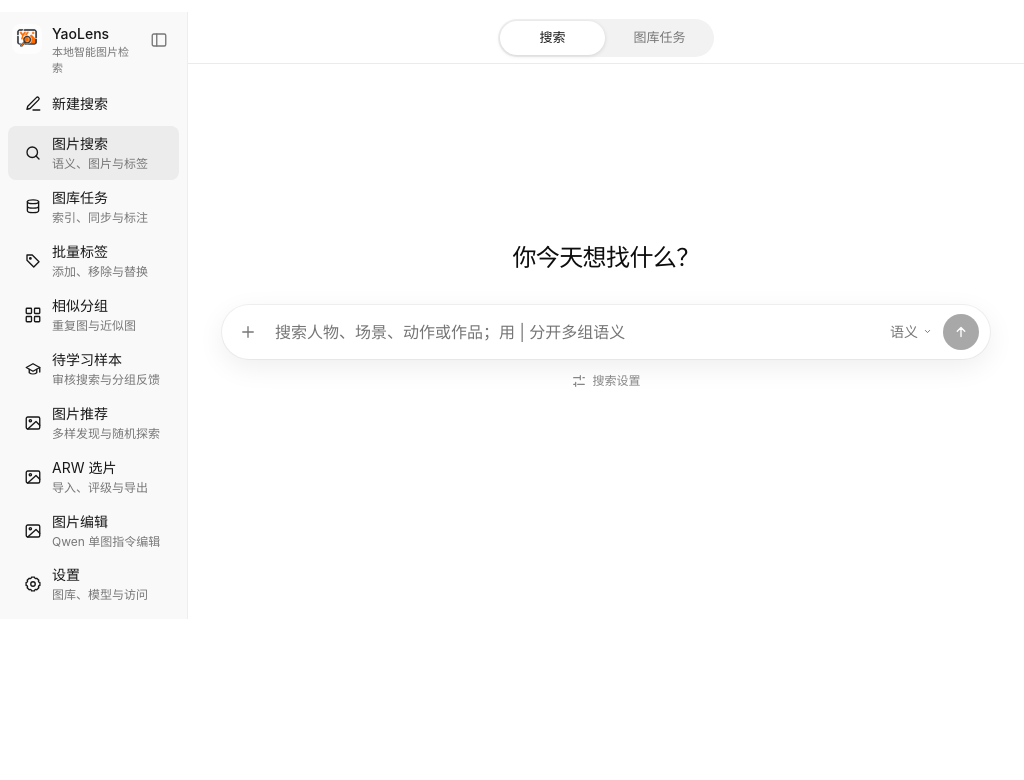
App page shell › opens one context image as an isolated image-edit draft
The width and height of the screenshot is (1024, 780).
Step 1. Type "人物写真" into the search field with placeholder "搜索人物、场景、动作或作品；用 | 分开多组语义" → coordinates (574, 332), box [270,312,879,352]
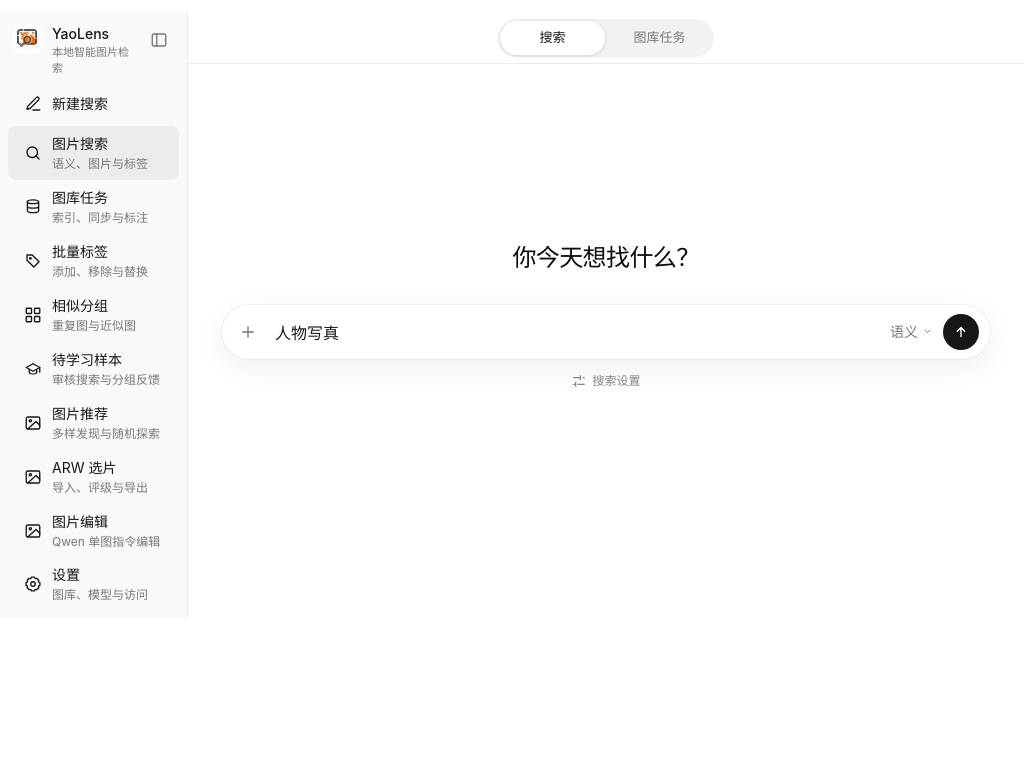
Step 2. Click the button with test id "submit-search" → coordinates (961, 332), box [943,314,979,350]
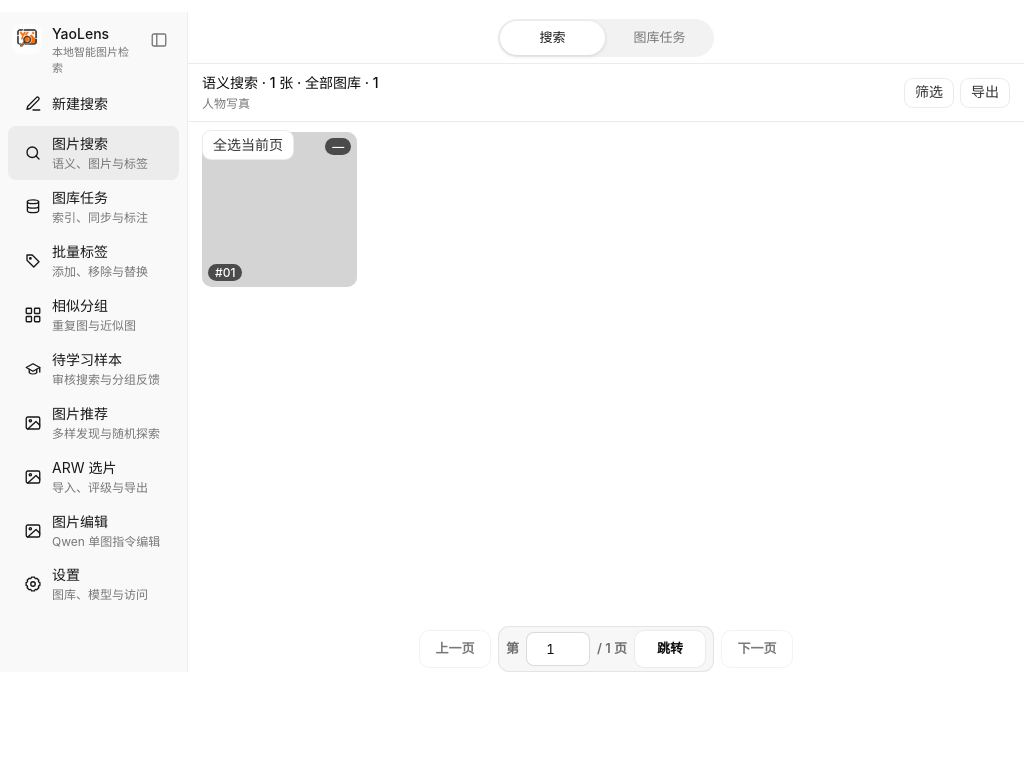
Step 3. Right-click the button with class "image-card" → coordinates (280, 210), box [202,132,357,287]
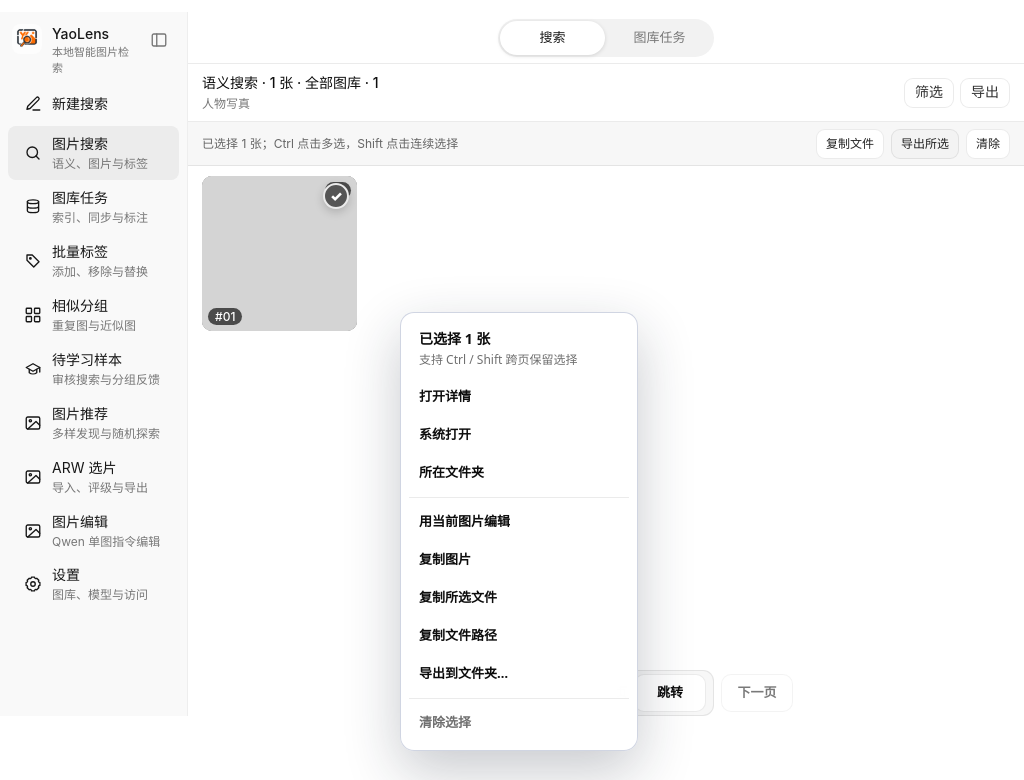
Result: the menu item "用当前图片编辑" is shown
Step 4. Click the menu item "用当前图片编辑" → coordinates (519, 522), box [409,503,629,541]
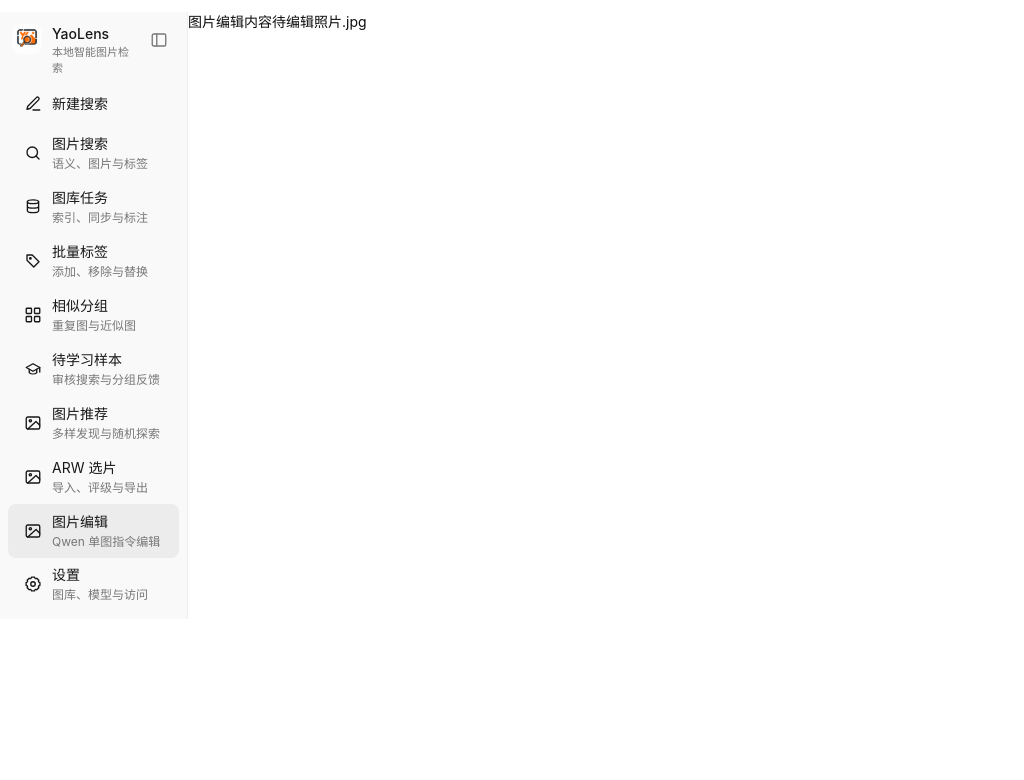
Result: the text with test id "image-edit-page" shows "待编辑照片.jpg" at [272,13,367,30]
